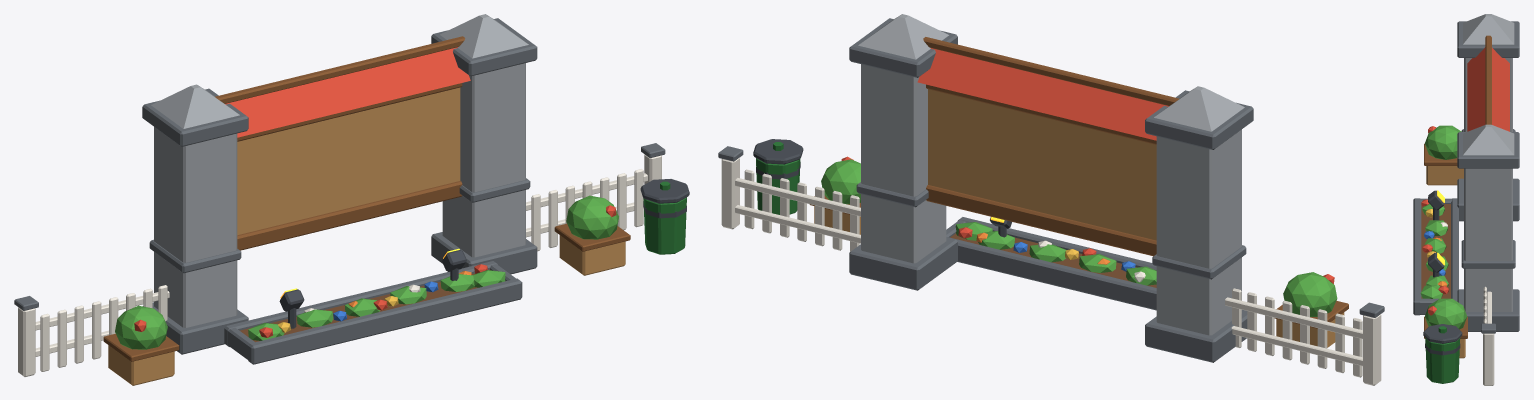
Rendered from town-welcome-sign.glb.
3 views of the same model, side by side, from view 1: azimuth 30°, elevation 25°; view 2: azimuth 150°, elevation 25°; view 3: azimuth 270°, elevation 25° (orthographic). The views are drawn at different scales.
Parts seen in each view (by area): view 1: NameBoard, Pillar_L_Shaft, Pillar_R_Shaft, Board_Roof, Bed_Front, Board_BottomBar, Board_RoofRidge, Pillar_L_Top, Pillar_L_Cap, Pillar_R_Top, Bin_Body, Pillar_R_Cap (+20 smaller); view 2: NameBoard, Pillar_L_Shaft, Pillar_R_Shaft, Board_Roof, Bed_Back, Board_BottomBar, Pillar_R_Base, Board_RoofRidge, Pillar_L_Base, Pillar_L_Top, Pillar_L_Cap, Pillar_R_Top (+17 smaller); view 3: Pillar_R_Shaft, Board_Roof, Pillar_R_Top, Pillar_L_Top, Bin_Body, Pillar_R_Cap, Bed_Soil, Pillar_R_Base, Bed_Front, Planter_L_Bush, Pillar_L_Cap, Planter_R_Bush (+21 smaller).
Boxes of the visible parts, x1,y1,x2,y2 form: NameBoard: [237, 87, 460, 235]; Pillar_L_Shaft: [154, 127, 237, 327]; Pillar_R_Shaft: [442, 63, 525, 257]; Board_Roof: [225, 47, 470, 137]; Bed_Front: [248, 278, 522, 364]; Board_BottomBar: [237, 181, 462, 250]; Board_RoofRidge: [215, 36, 465, 103]; Pillar_L_Top: [151, 84, 239, 128]; Pillar_L_Cap: [142, 88, 248, 146]; Pillar_R_Top: [440, 14, 528, 58]; Bin_Body: [643, 197, 686, 254]; Pillar_R_Cap: [431, 18, 537, 76]; NameBoard: [928, 89, 1156, 240]; Pillar_L_Shaft: [1156, 129, 1241, 335]; Pillar_R_Shaft: [861, 64, 946, 263]; Board_Roof: [917, 48, 1168, 140]; Bed_Back: [947, 237, 1156, 310]; Board_BottomBar: [926, 185, 1156, 256]; Pillar_R_Base: [849, 237, 957, 290]; Board_RoofRidge: [923, 37, 1179, 105]; Pillar_L_Base: [1145, 309, 1247, 362]; Pillar_L_Top: [1154, 86, 1244, 131]; Pillar_L_Cap: [1145, 90, 1253, 149]; Pillar_R_Top: [858, 14, 948, 59]; Pillar_R_Shaft: [1464, 168, 1512, 311]; Board_Roof: [1467, 47, 1509, 131]; Pillar_R_Top: [1463, 124, 1514, 155]; Pillar_L_Top: [1463, 14, 1514, 44]; Bin_Body: [1425, 338, 1460, 383]; Pillar_R_Cap: [1457, 132, 1519, 168]; Bed_Soil: [1421, 204, 1450, 298]; Pillar_R_Base: [1457, 289, 1519, 331]; Bed_Front: [1413, 198, 1421, 315]; Planter_L_Bush: [1425, 125, 1461, 159]; Pillar_L_Cap: [1457, 21, 1519, 57]; Planter_R_Bush: [1425, 298, 1467, 329].
Bounding box in the file's own units: 35.6 × 13.05 × 6.5.
